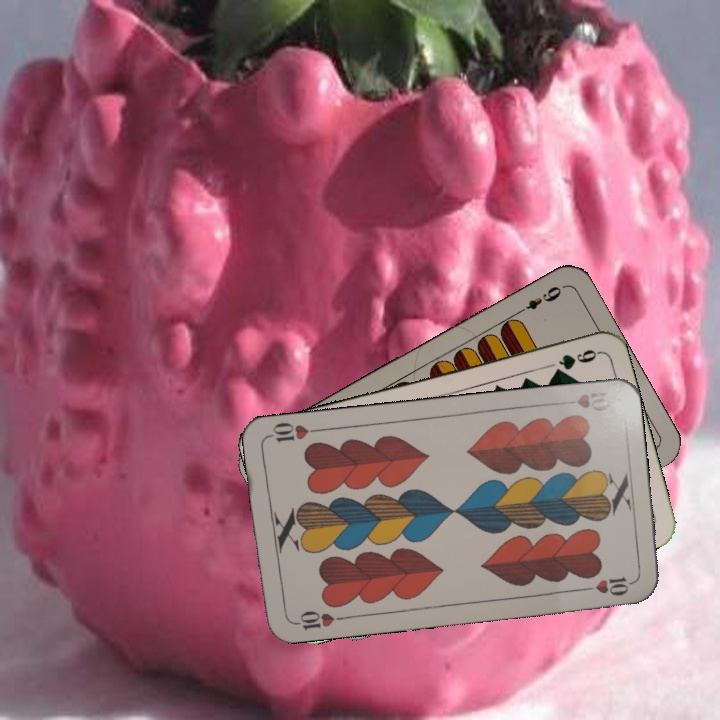E9: (512, 282, 566, 318)
G9: (543, 345, 601, 372)
H10: (287, 606, 346, 633), (573, 390, 615, 414)
